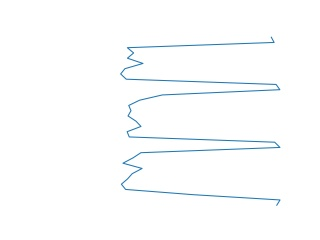majorRiverChannelBar: (118, 35, 285, 205)
